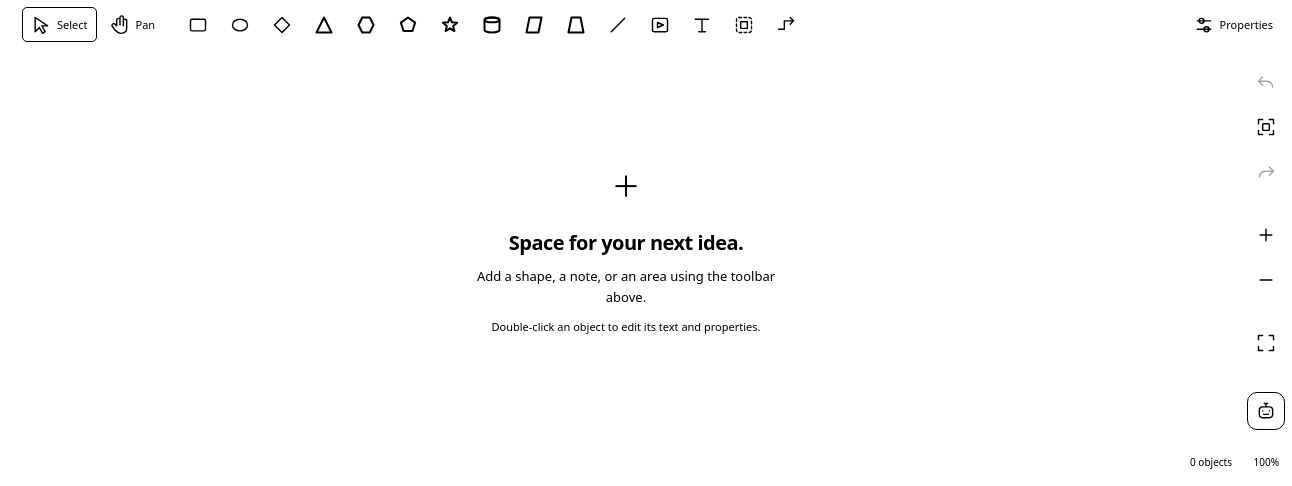
Scenario: manual LCANVAS editor › closes AI before opening object properties and closes properties before opening AI
Click the button with aria-label "Open object properties": (1233,24) [1185,7,1282,42]
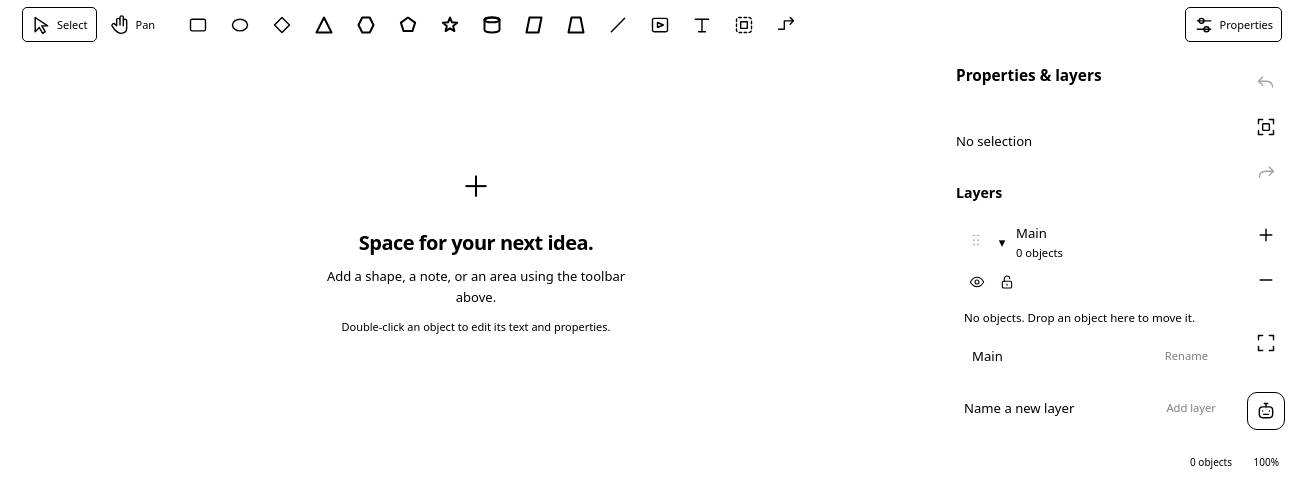
Result: the button with aria-label "Close object properties" is shown at [1185,7,1282,42]
Click the button named "Close AI workspace panel": (1266,411) [1247,392,1285,430]
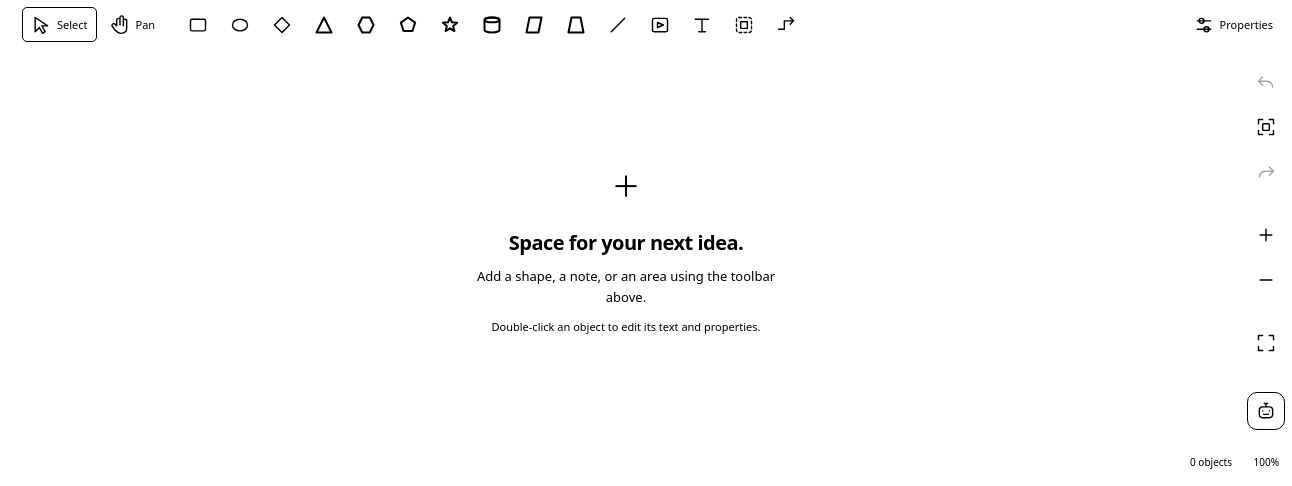
Result: the button with aria-label "Open object properties" is shown at [1185,7,1282,42]
